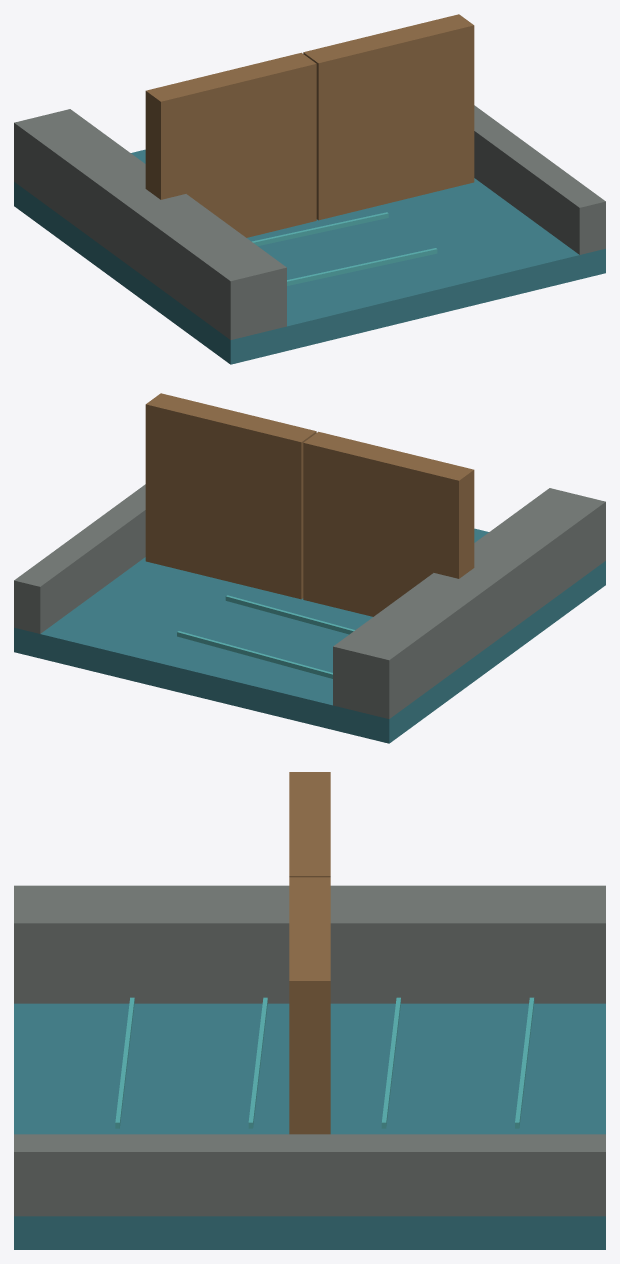
Rendered from terrain-canal-lock.lod0.glb.
The picture shows the model from 3 angles, top to bottom: view 1: azimuth 30°, elevation 25°; view 2: azimuth 150°, elevation 25°; view 3: azimuth 270°, elevation 25°; orthographic projection. The views are drawn at different scales.
Visible parts, largest first — view 1: terrain-canal-lock__body; view 2: terrain-canal-lock__body; view 3: terrain-canal-lock__body.
Part boxes in pixels (x1,y1,x2,y2): terrain-canal-lock__body: (14,14,605,364); terrain-canal-lock__body: (14,393,605,743); terrain-canal-lock__body: (14,772,605,1249).
Bounding box in the file's own units: 2 × 0.925 × 2.
